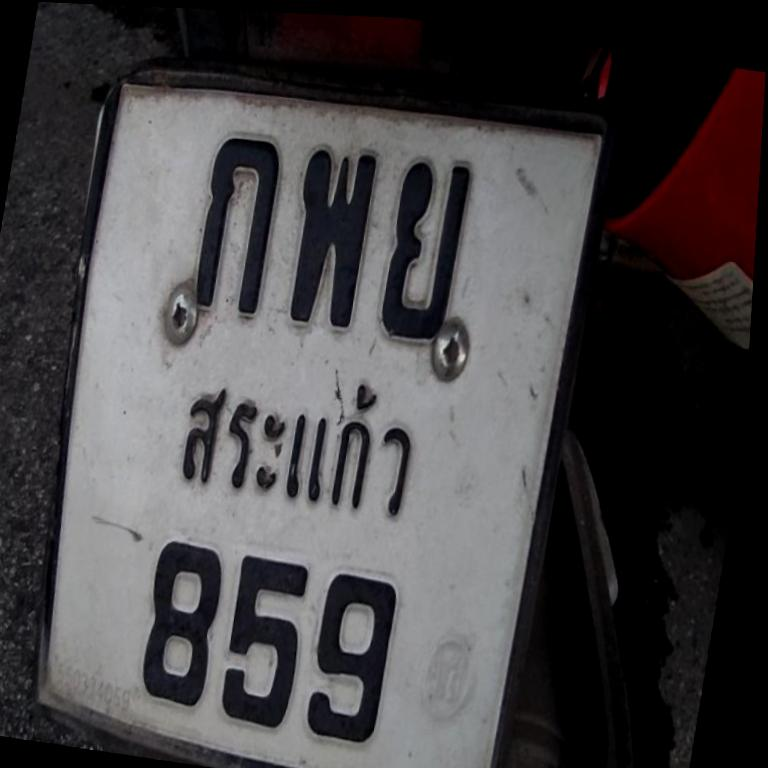license plate: (41, 72, 609, 768)
